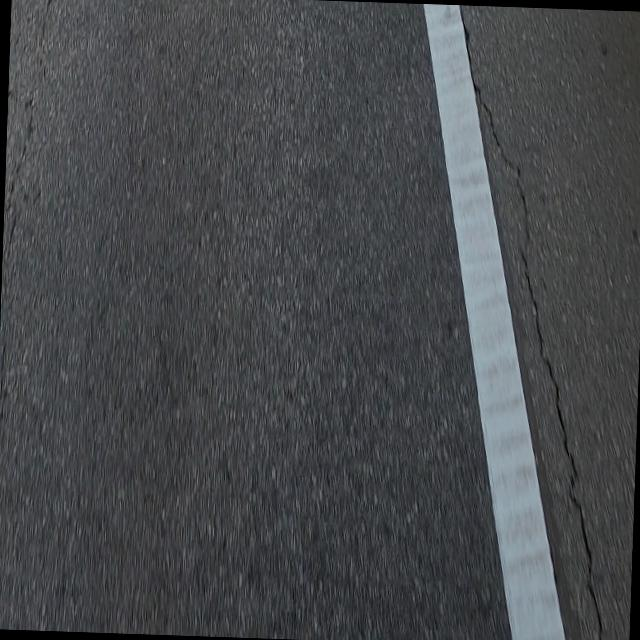Retak-Memanjang: (456, 5, 603, 640)
